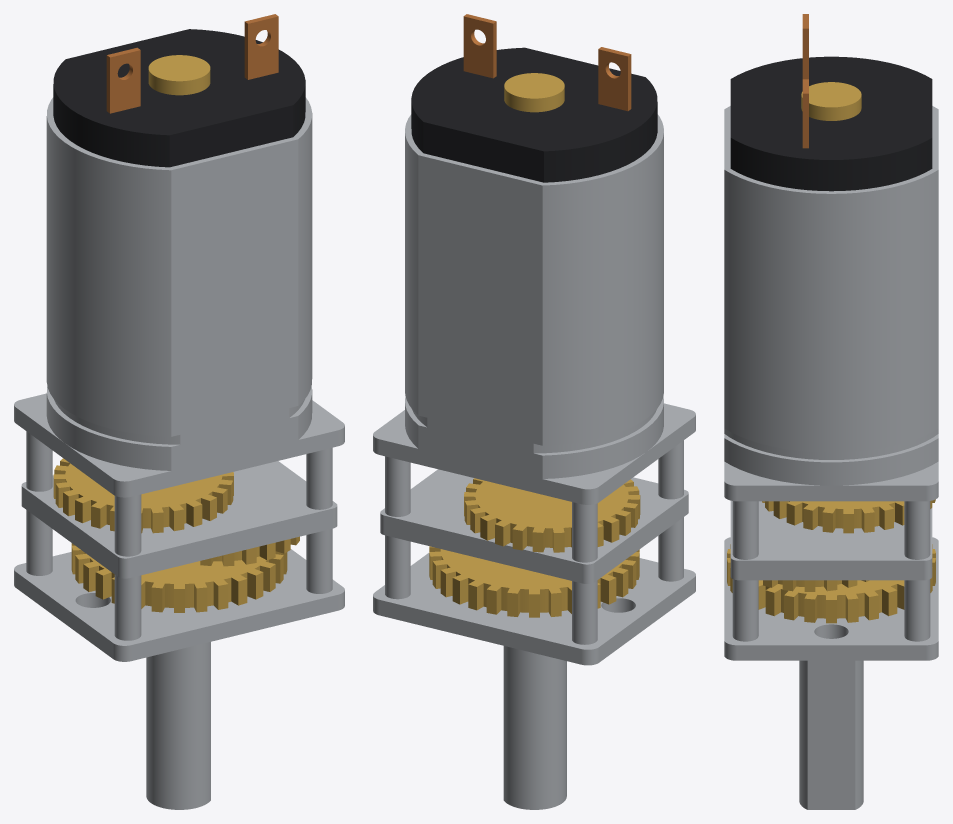
Rendered from motor-r.glb.
3 views of the same model, side by side, from view 1: azimuth 30°, elevation 25°; view 2: azimuth 150°, elevation 25°; view 3: azimuth 270°, elevation 25° (orthographic). The views are drawn at different scales.
Visible parts, largest first — view 1: motor-r; view 2: motor-r; view 3: motor-r.
Part boxes in pixels (x1=…): motor-r: x1=14, y1=14, x2=344, y2=809; motor-r: x1=373, y1=14, x2=695, y2=809; motor-r: x1=724, y1=14, x2=938, y2=809.
Bounding box in the file's own units: 12 × 38.4 × 10.
